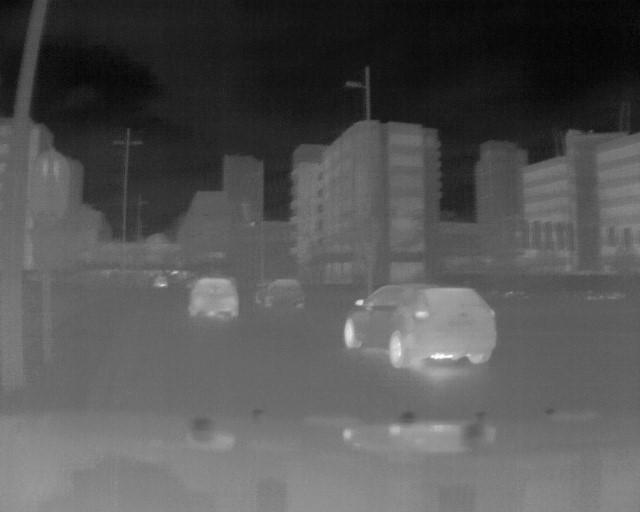car: (339, 280, 500, 379), (187, 275, 239, 324), (252, 270, 305, 316), (155, 272, 167, 292)
